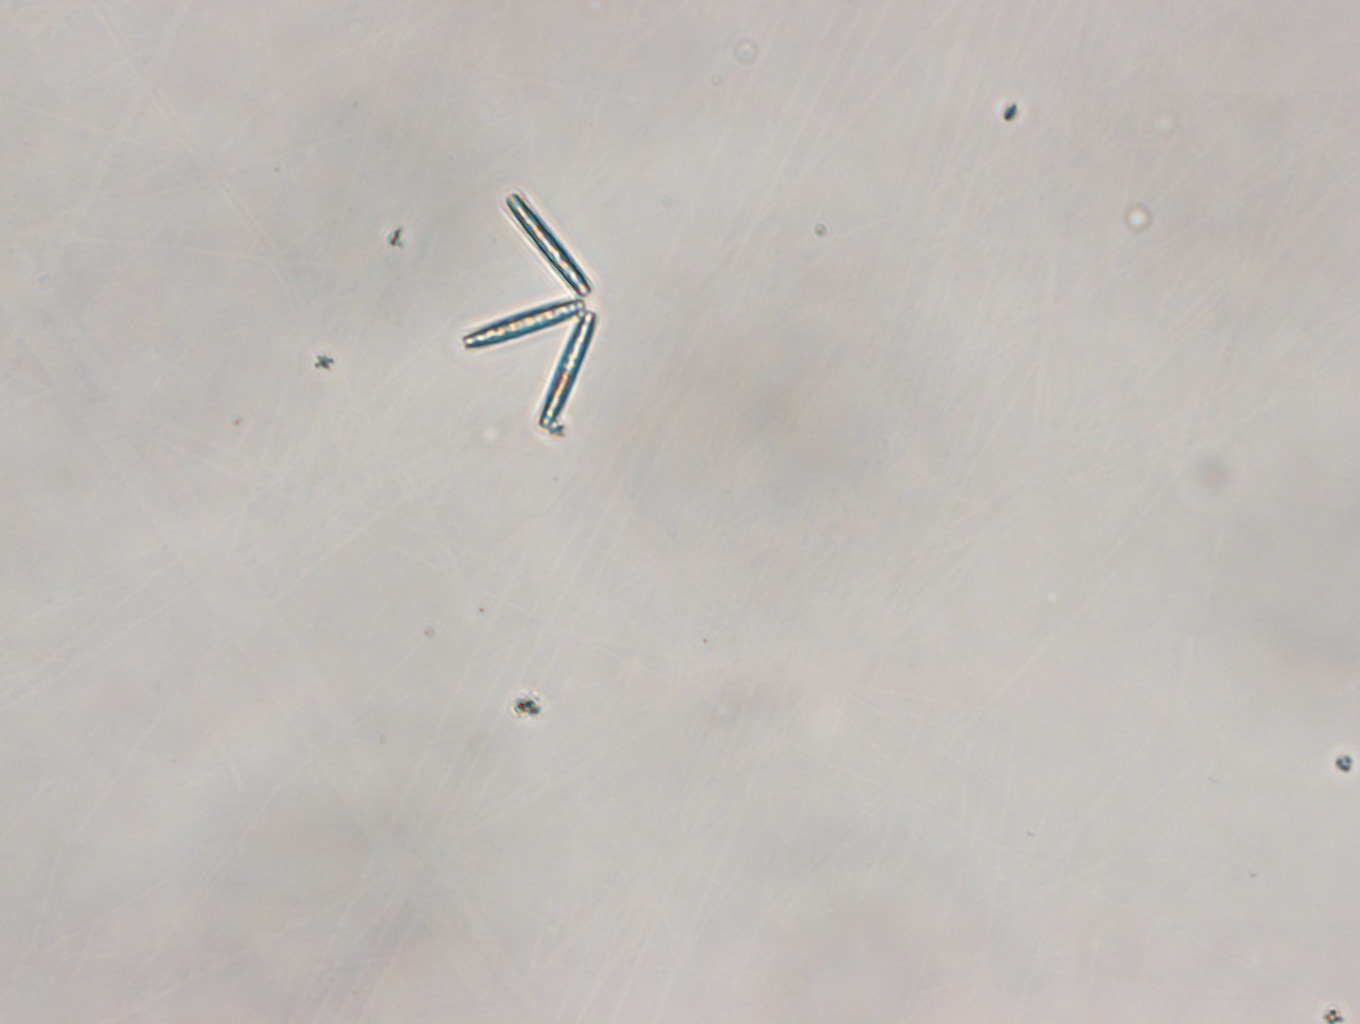thalassionema frauenfeldii: (461, 194, 606, 437)
